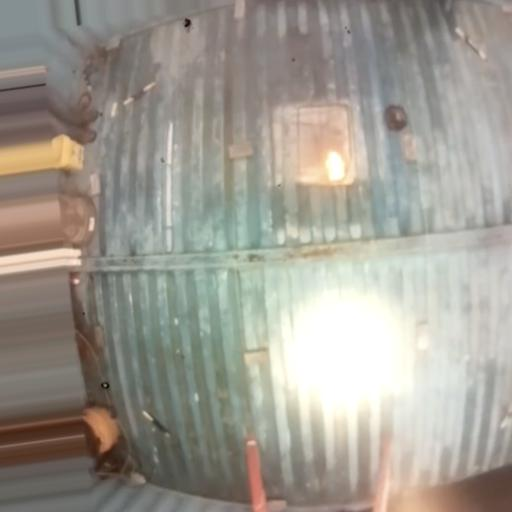Fire: (324, 150, 347, 182)
